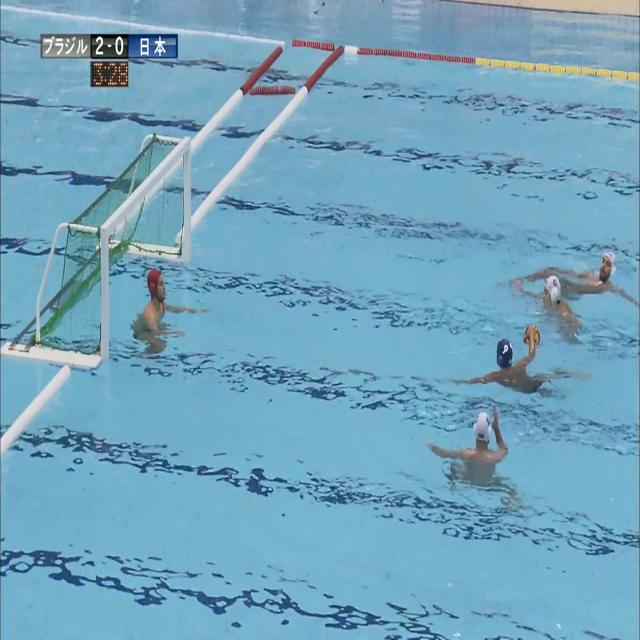ball: (523, 325, 540, 347)
